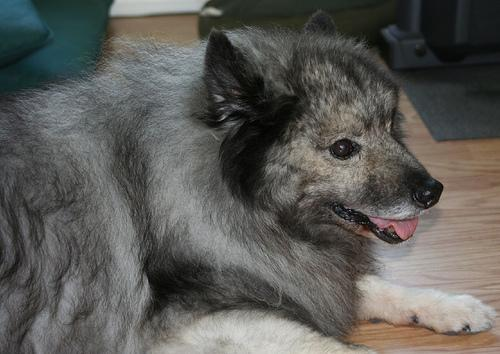dog-keeshond: (202, 7, 442, 242)
